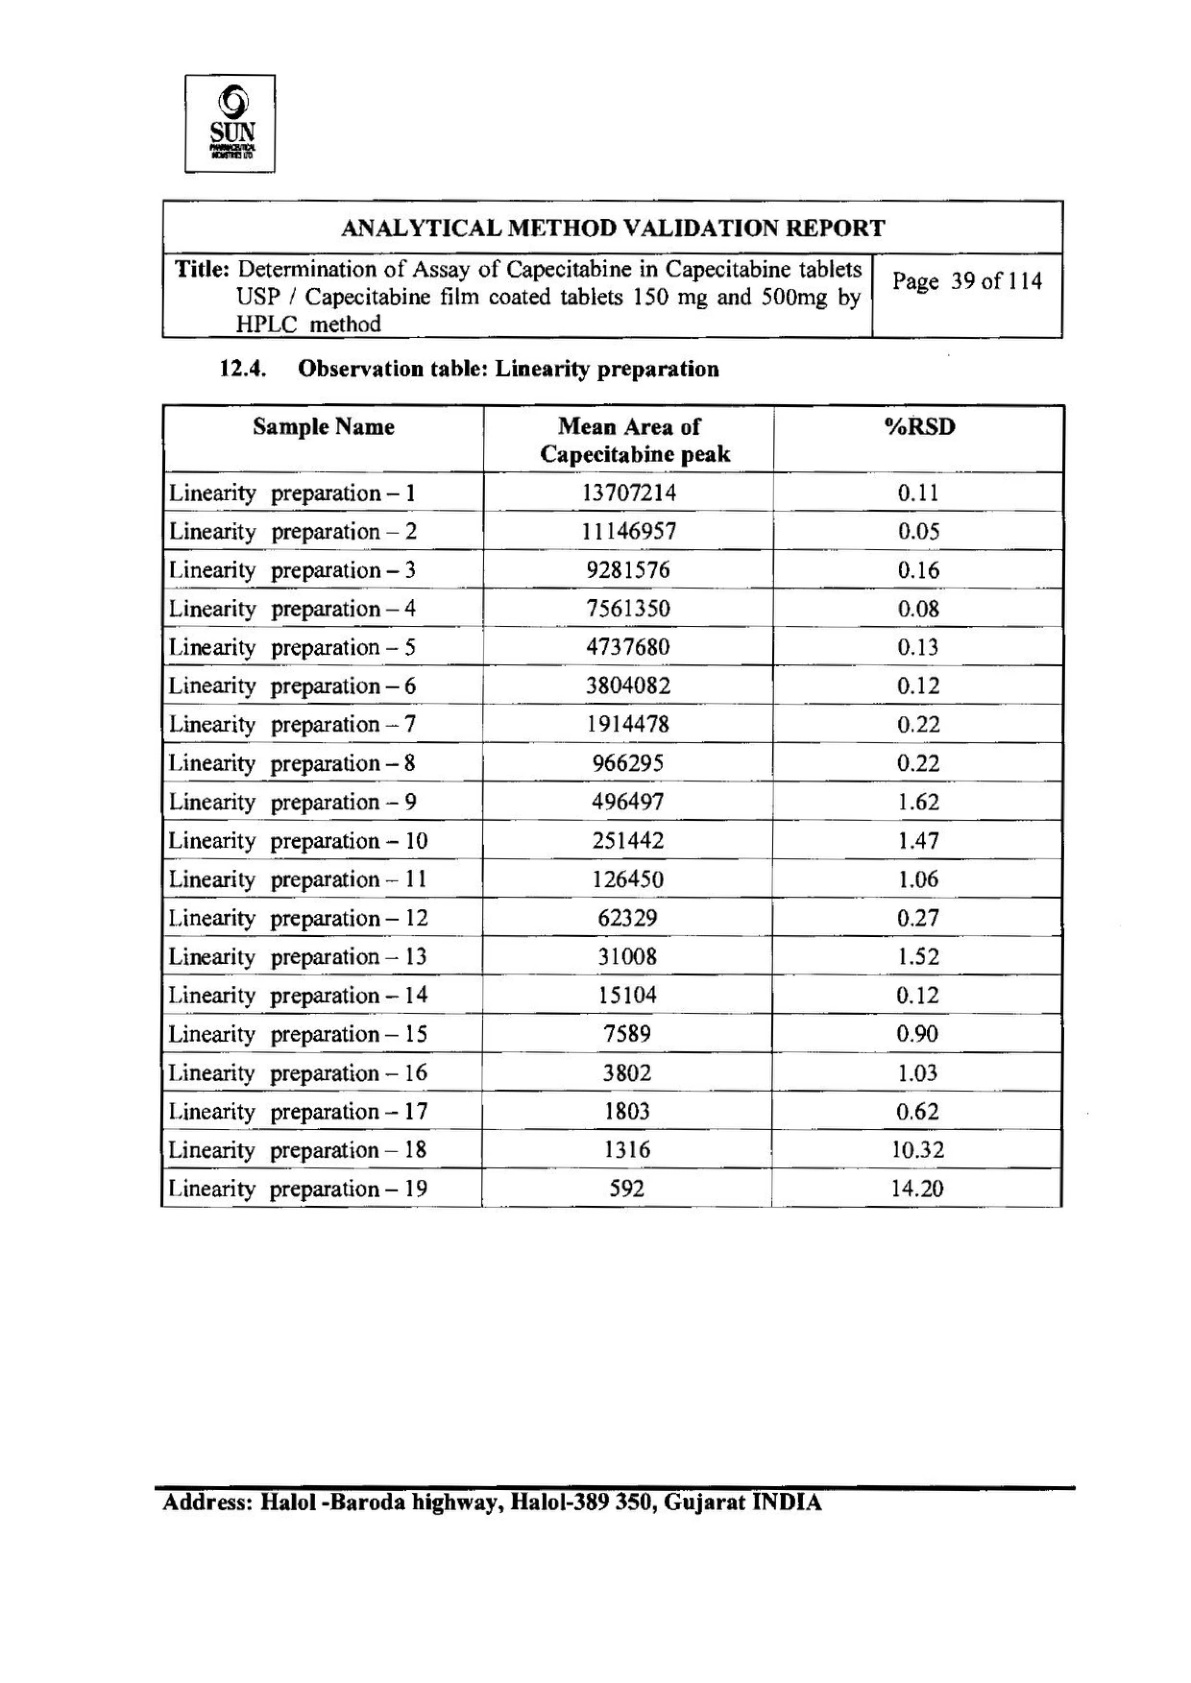full_lined: (159, 401, 1067, 1209)
merged_cells: (160, 198, 1065, 340)
